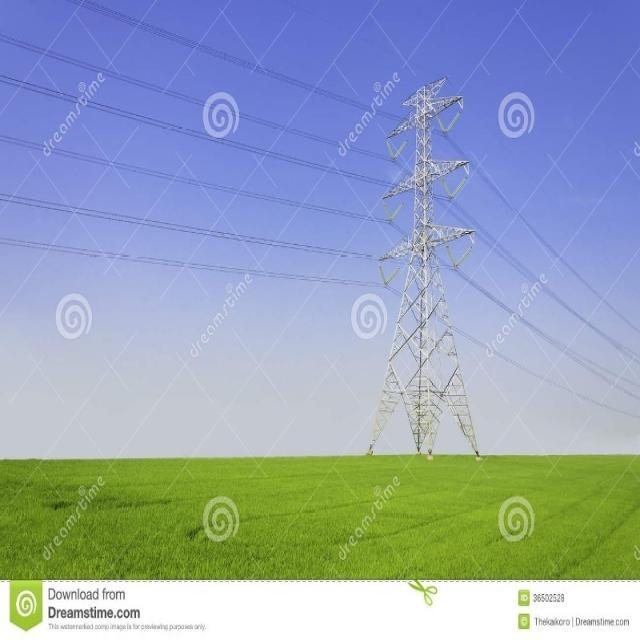non-critical vegetation: (391, 91, 478, 464)
